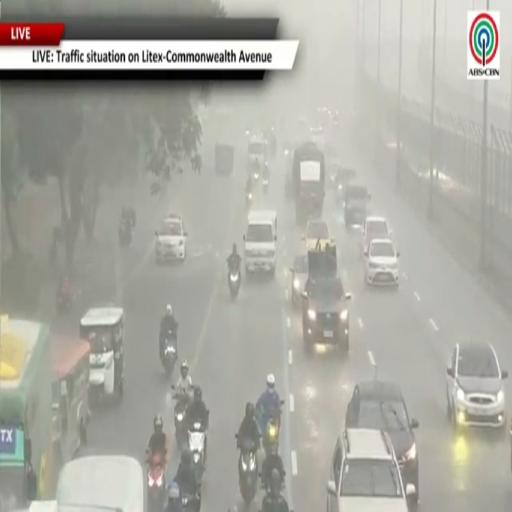bus: (0, 316, 52, 509)
car: (345, 379, 419, 501), (327, 429, 416, 511), (447, 342, 507, 427), (303, 277, 351, 353), (244, 211, 276, 277), (364, 239, 399, 285), (155, 214, 187, 263), (360, 216, 392, 255), (343, 184, 371, 228), (303, 219, 333, 250), (290, 254, 308, 305), (334, 166, 356, 204), (248, 134, 266, 180), (310, 126, 325, 150)
jeepney: (56, 456, 146, 511), (52, 336, 89, 469), (80, 307, 124, 405)
motorcycle: (258, 400, 284, 456), (239, 439, 258, 505), (188, 422, 207, 485), (147, 451, 166, 511), (260, 452, 285, 491), (173, 393, 189, 451), (161, 330, 177, 375), (263, 415, 279, 456), (56, 287, 73, 313), (119, 220, 133, 247), (181, 492, 200, 511), (229, 269, 240, 299), (246, 191, 253, 209), (262, 178, 269, 194), (253, 170, 259, 181)
truck: (292, 142, 325, 226), (215, 143, 234, 175)
